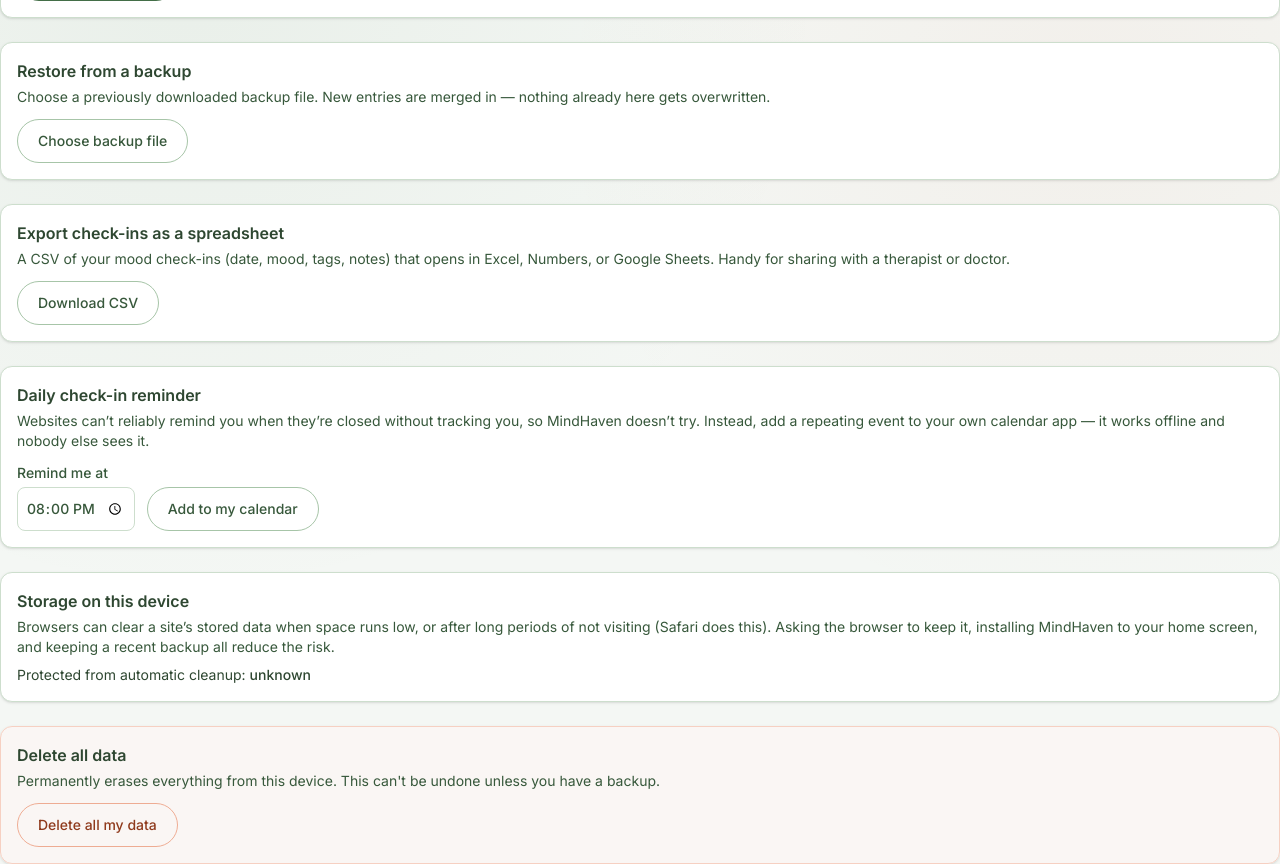
Test case: Settings: delete everything › requires a second click before clearing data
This screenshot has width=1280, height=864.
(page scrolled)
What coordinates should you click on to do the following:
click the button "Delete all my data"
I would click on:
 (97, 825)
Its box is left=17, top=803, right=178, bottom=847.
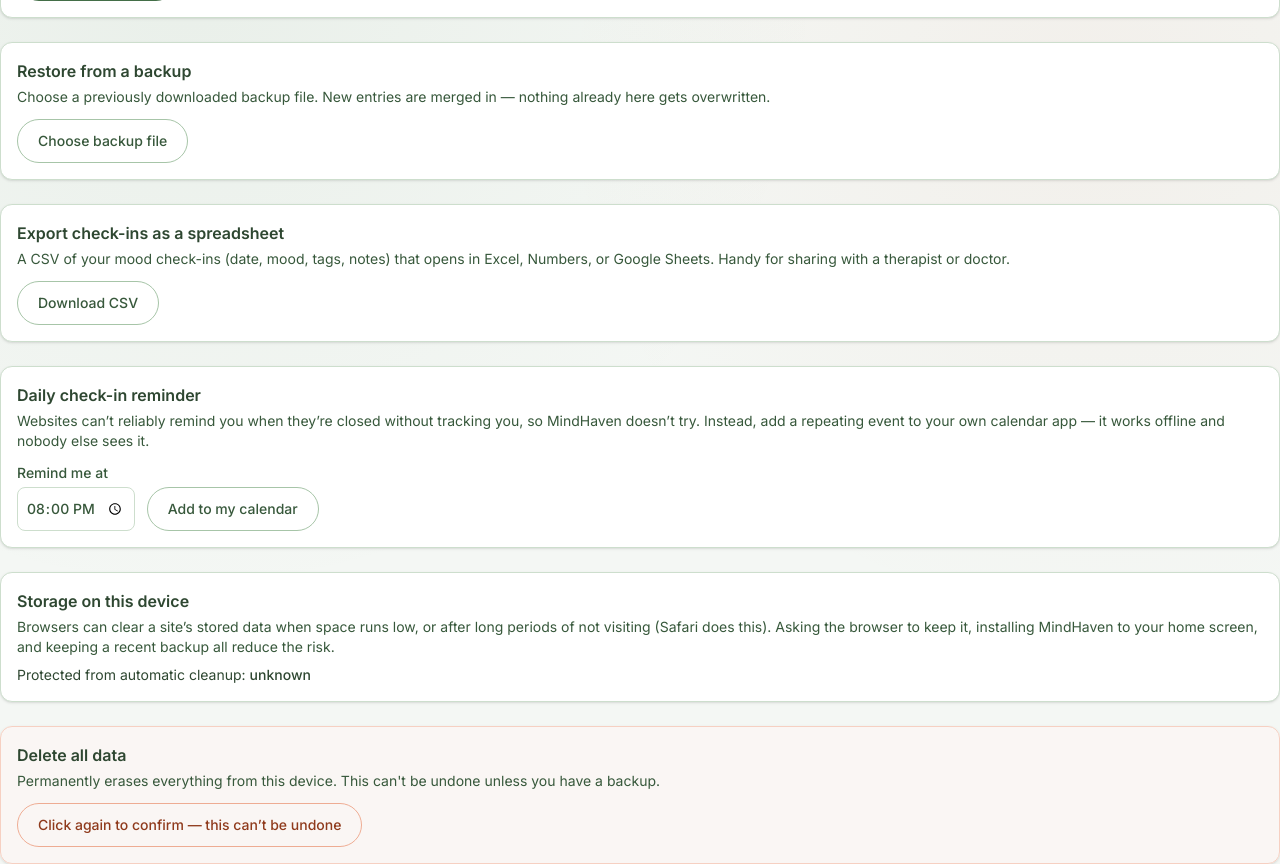
expect the button "Click again to confirm — this can’t be undone" is shown: met
What coordinates should you click on to do the following:
click the button "Click again to confirm — this can’t be undone"
I would click on:
 (190, 825)
Its box is left=17, top=803, right=362, bottom=847.
(page scrolled)
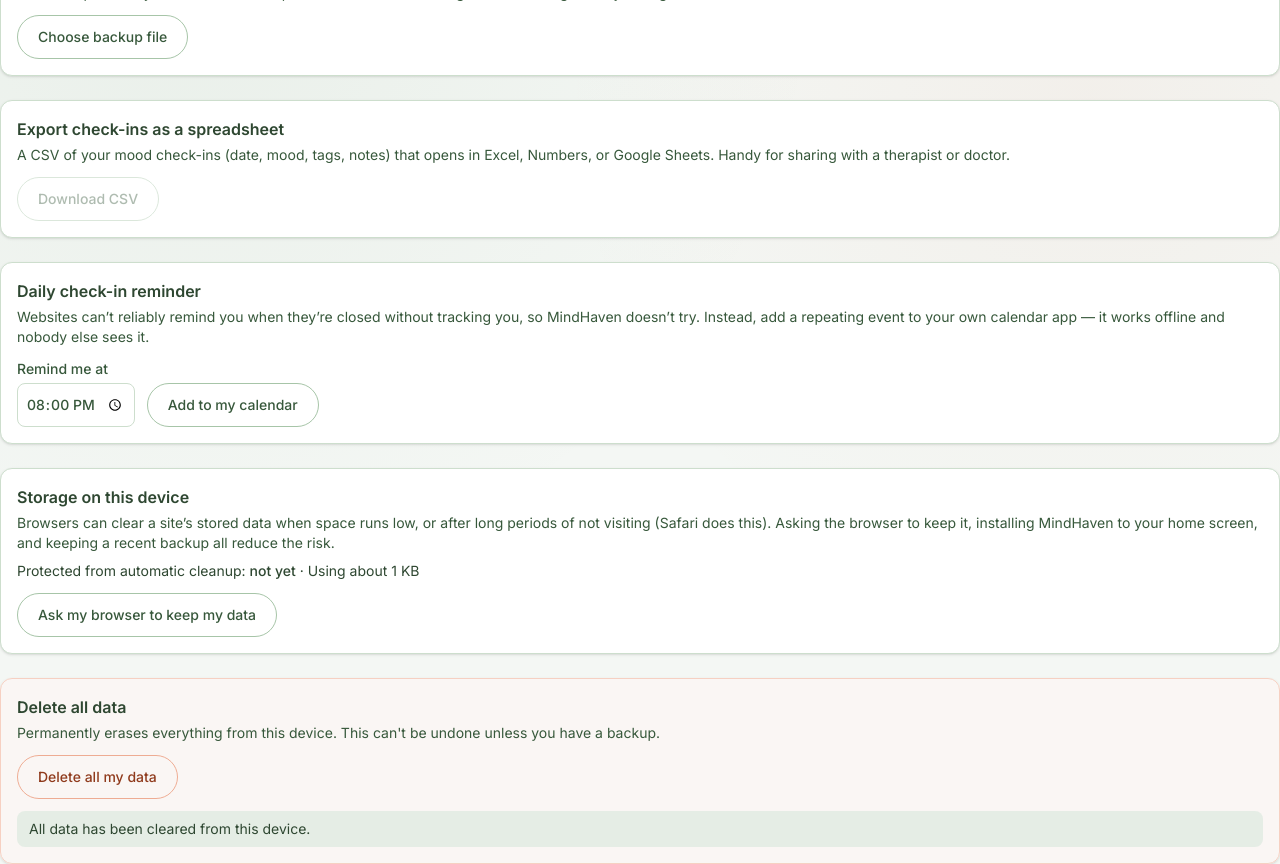
expect the message shows "All data has been cleared": met, box left=29, top=820, right=310, bottom=837
